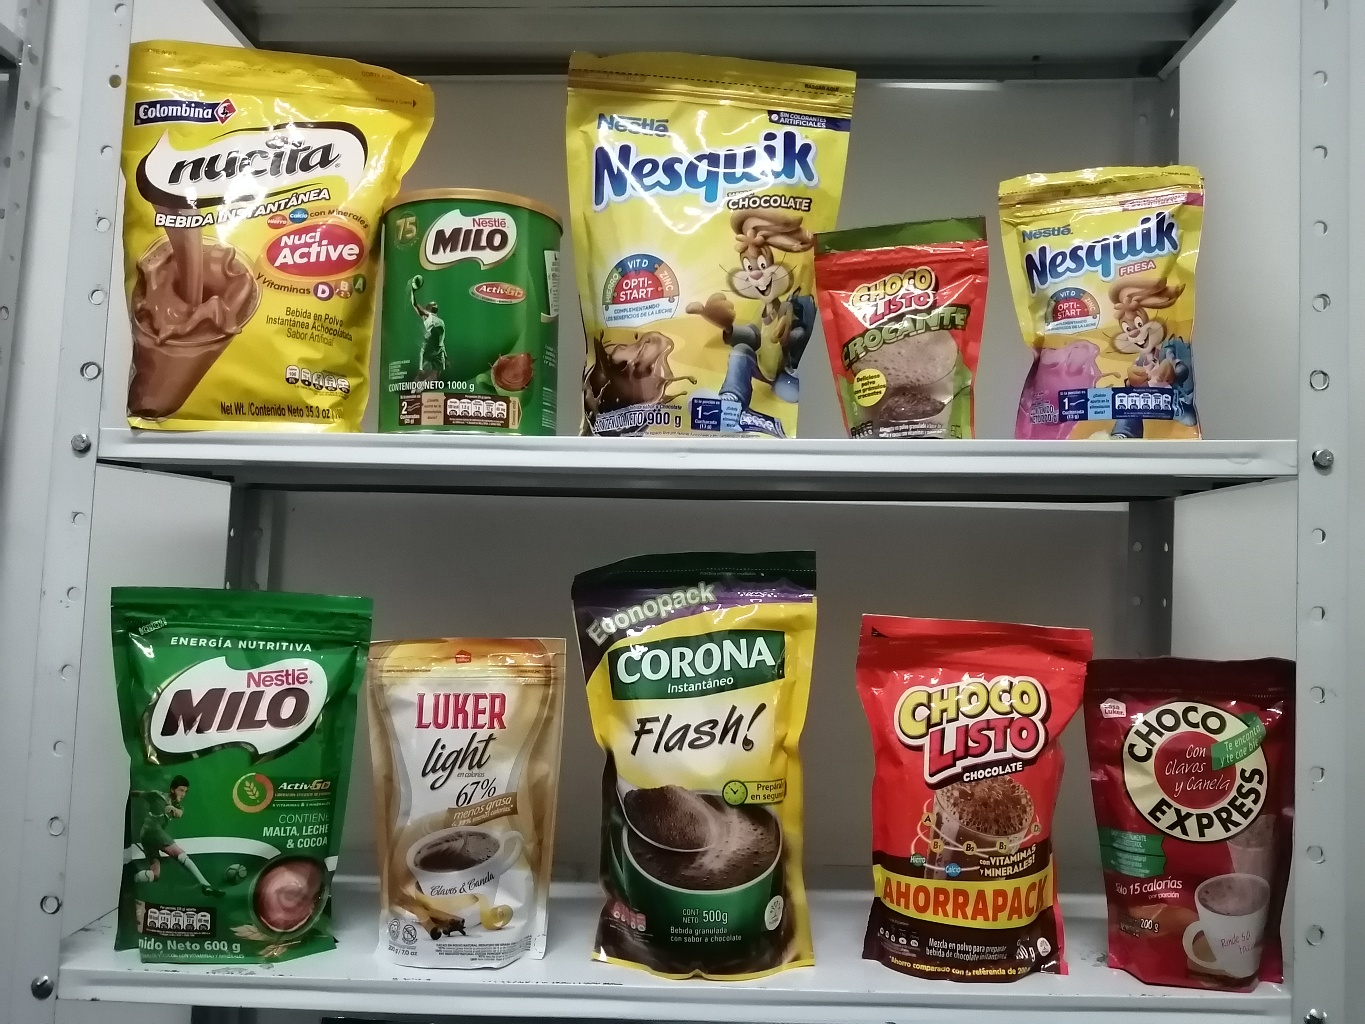COL0170102DYP10000: (796, 198, 1006, 452)
COL0170103DYP40000: (851, 602, 1103, 991)
COL0170305DYP20000: (982, 145, 1220, 458)
